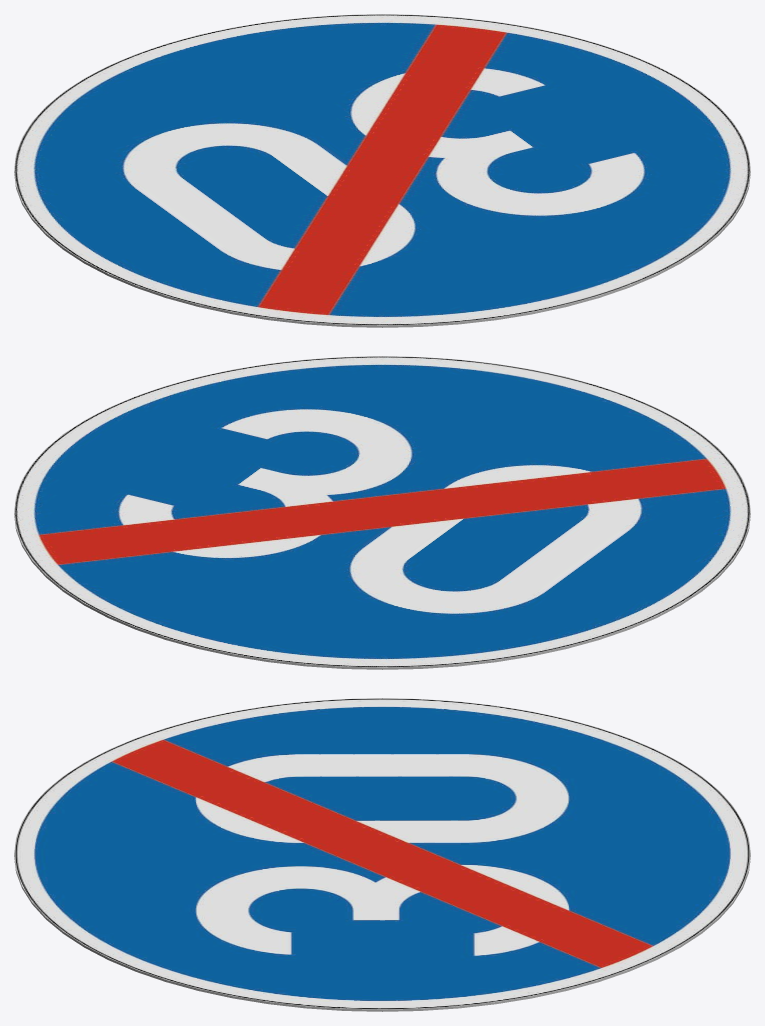
3 renders of one model, top to bottom at view 1: azimuth 30°, elevation 25°; view 2: azimuth 150°, elevation 25°; view 3: azimuth 270°, elevation 25°, orthographic.
Visible parts, largest first — view 1: Circle_Schild_Rund; view 2: Circle_Schild_Rund; view 3: Circle_Schild_Rund.
Boxes of the visible parts, <box> form: Circle_Schild_Rund: <box>14,14,750,327</box>; Circle_Schild_Rund: <box>14,356,750,669</box>; Circle_Schild_Rund: <box>14,698,750,1011</box>.
Bounding box in the file's own units: 0.6 × 0.002 × 0.6.
2 materials, 1 textured.
